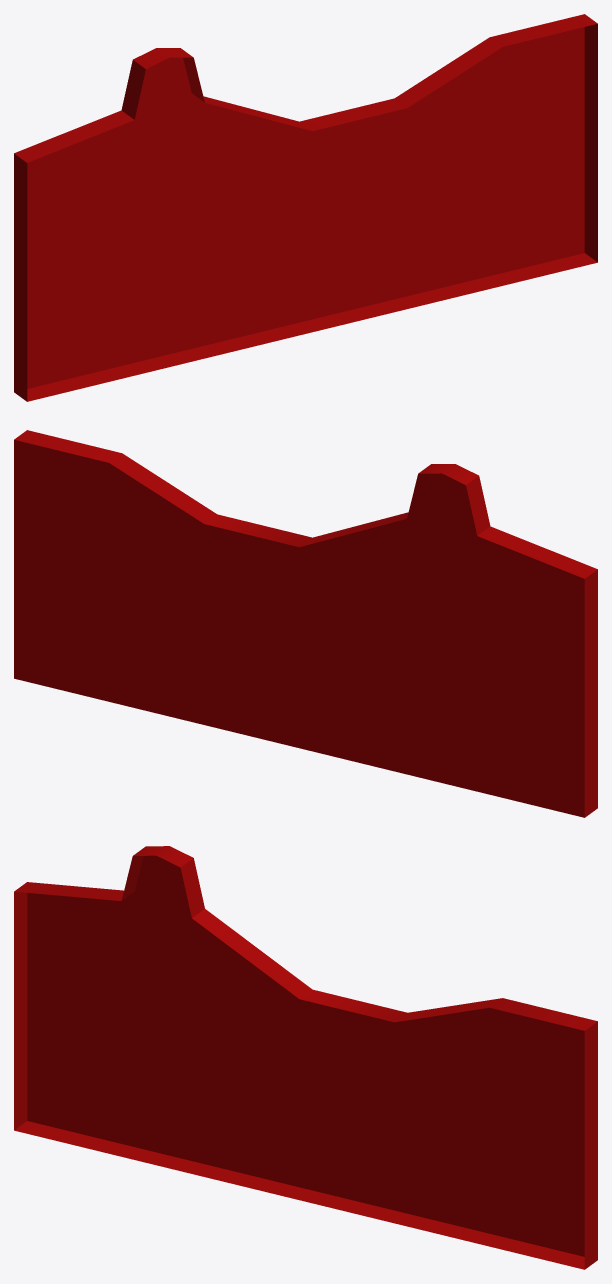
File: gumdrop Hills low res.fbx
3 renders of one model, top to bottom at view 1: azimuth 30°, elevation 25°; view 2: azimuth 150°, elevation 25°; view 3: azimuth 330°, elevation 25°, orthographic.
Visible parts, largest first — view 1: Gumdrop_Hills_terrain; view 2: Gumdrop_Hills_terrain; view 3: Gumdrop_Hills_terrain.
Boxes of the visible parts, x1,y1,x2,y2 form: Gumdrop_Hills_terrain: (14,14,597,401); Gumdrop_Hills_terrain: (14,430,597,817); Gumdrop_Hills_terrain: (14,846,597,1269).
Bounding box in the file's own units: 25 × 12.96 × 1.
